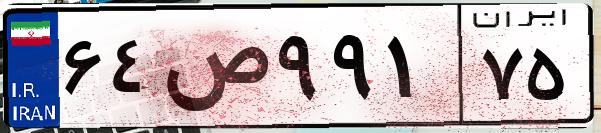1: (385, 28, 445, 110)
4: (110, 28, 158, 98)
5: (525, 38, 570, 115)
6: (57, 26, 110, 100)
7: (475, 38, 525, 113)
9: (270, 28, 330, 110), (330, 28, 385, 110)
ص: (158, 20, 270, 120)
